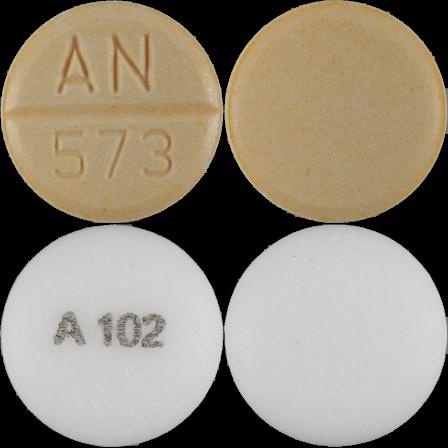50268-114: (0, 0, 224, 224)
